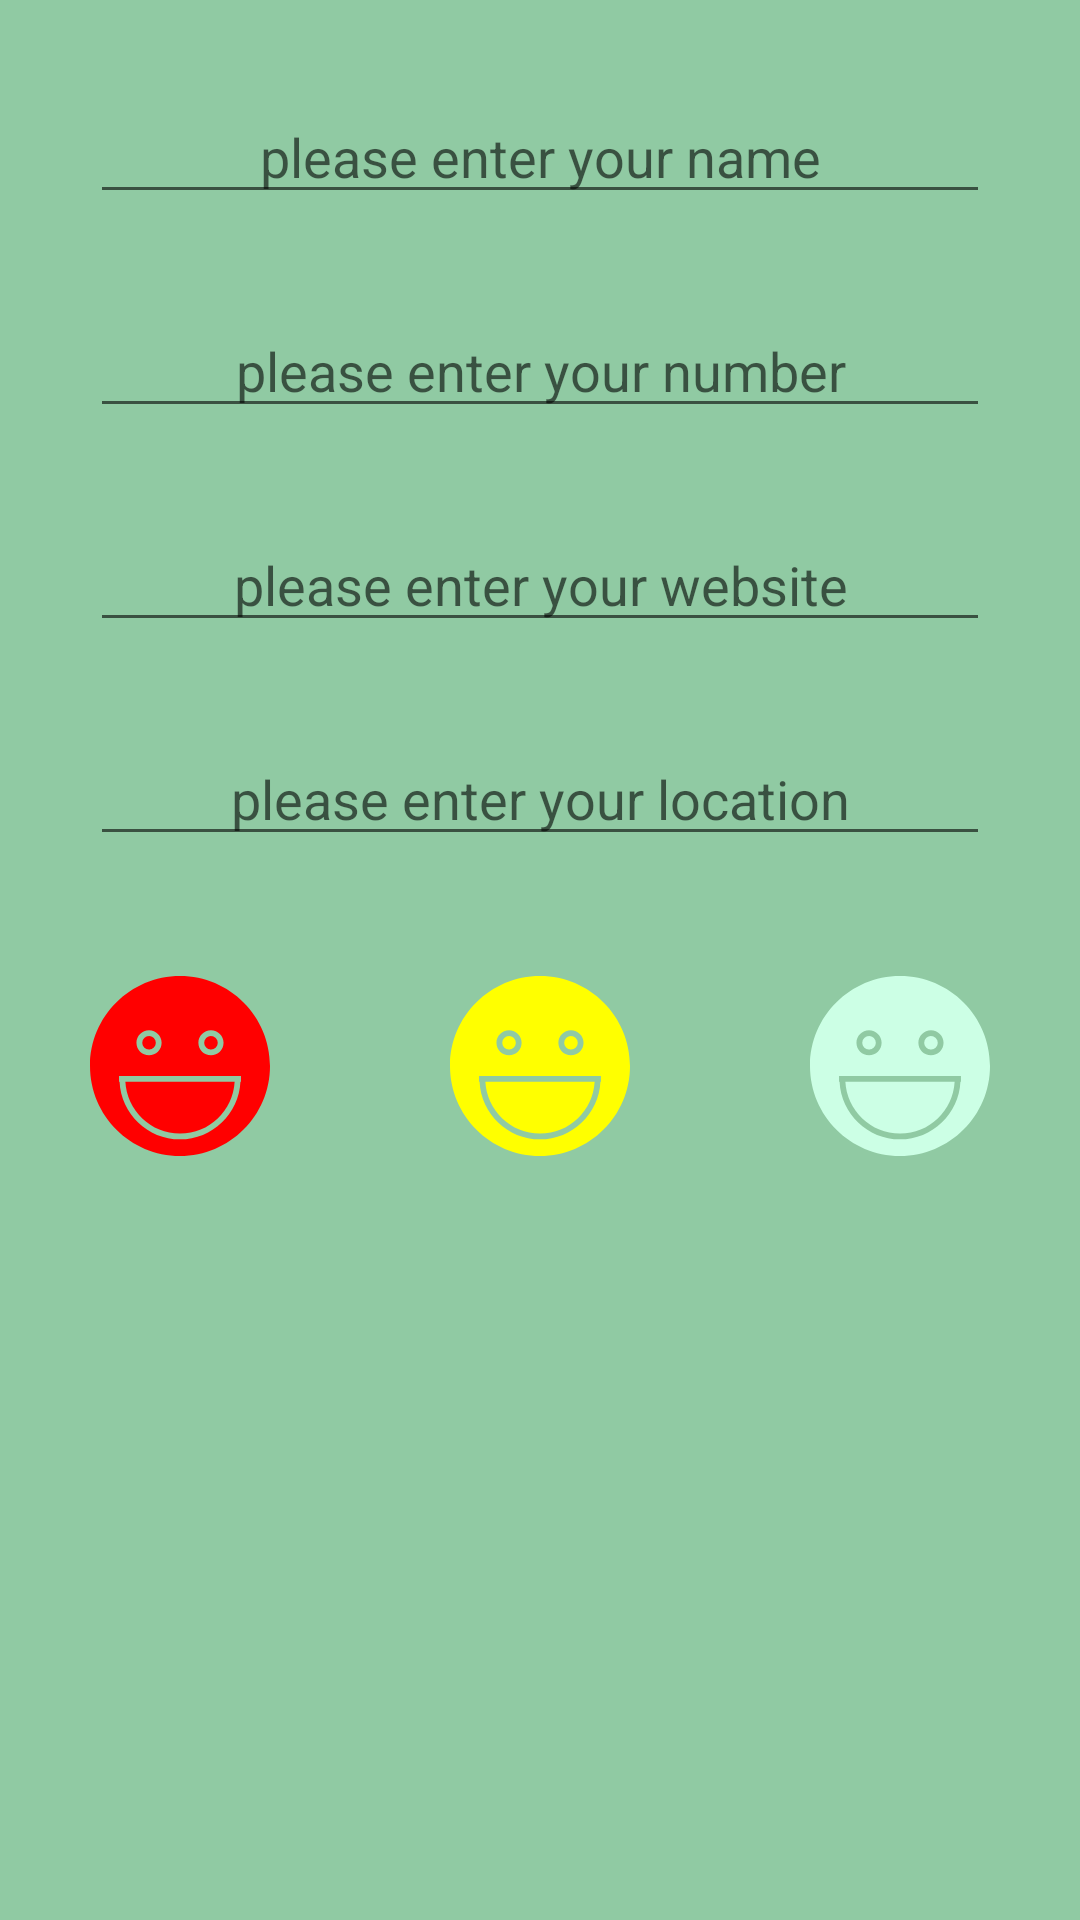

Point at icon controls on the screen. Image size 1080 x 1920, points as point (x, y).
smile: point (180, 1066), point (540, 1066), point (900, 1066)
